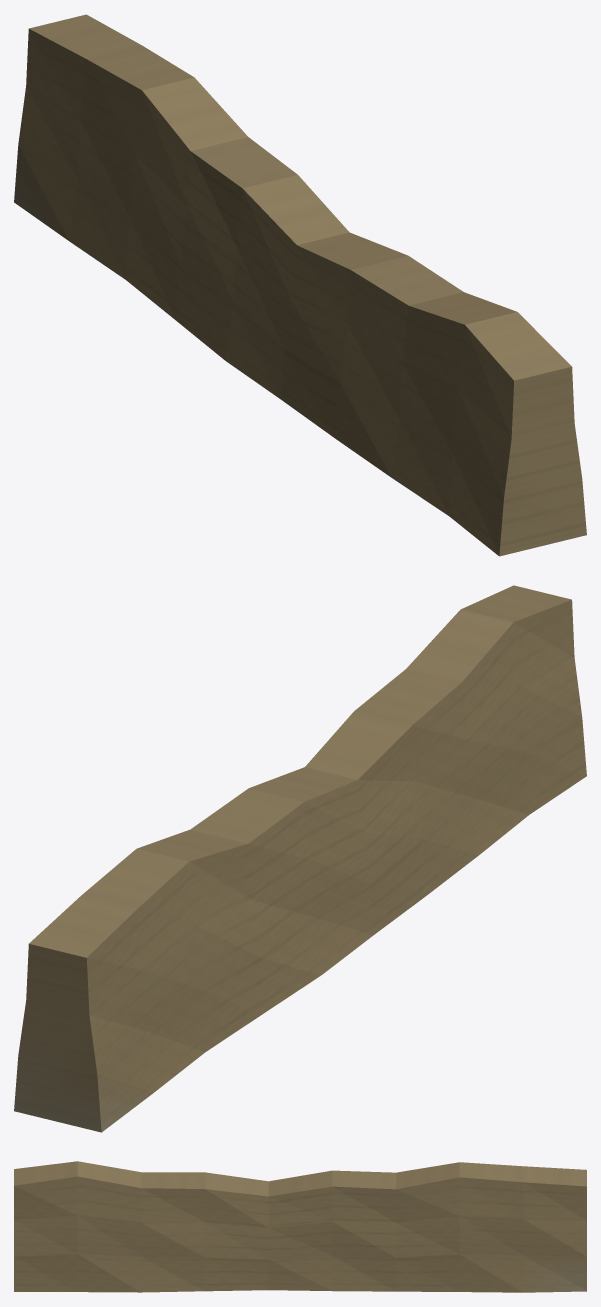
The model's file is wall-earth-lod1.glb.
The picture shows the model from 3 angles, top to bottom: view 1: azimuth 30°, elevation 25°; view 2: azimuth 150°, elevation 25°; view 3: azimuth 270°, elevation 25°; orthographic projection. The views are drawn at different scales.
Bounding box in the file's own units: 0.1134 × 0.2138 × 1.
1 material, 1 textured.
